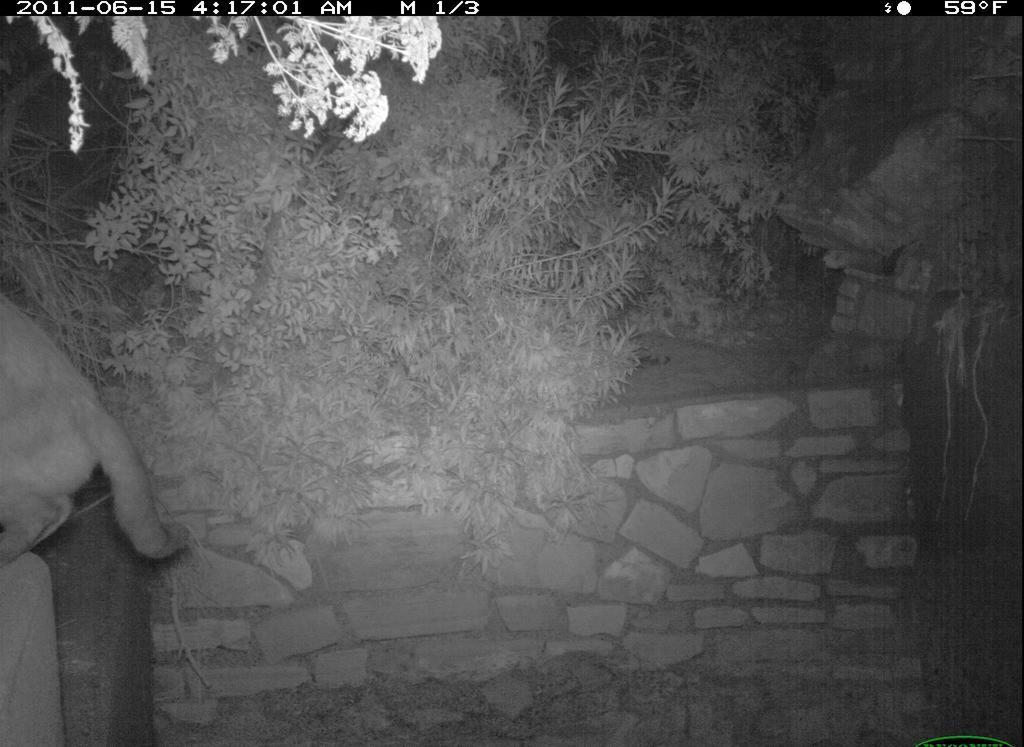cat: (1, 283, 203, 566)
